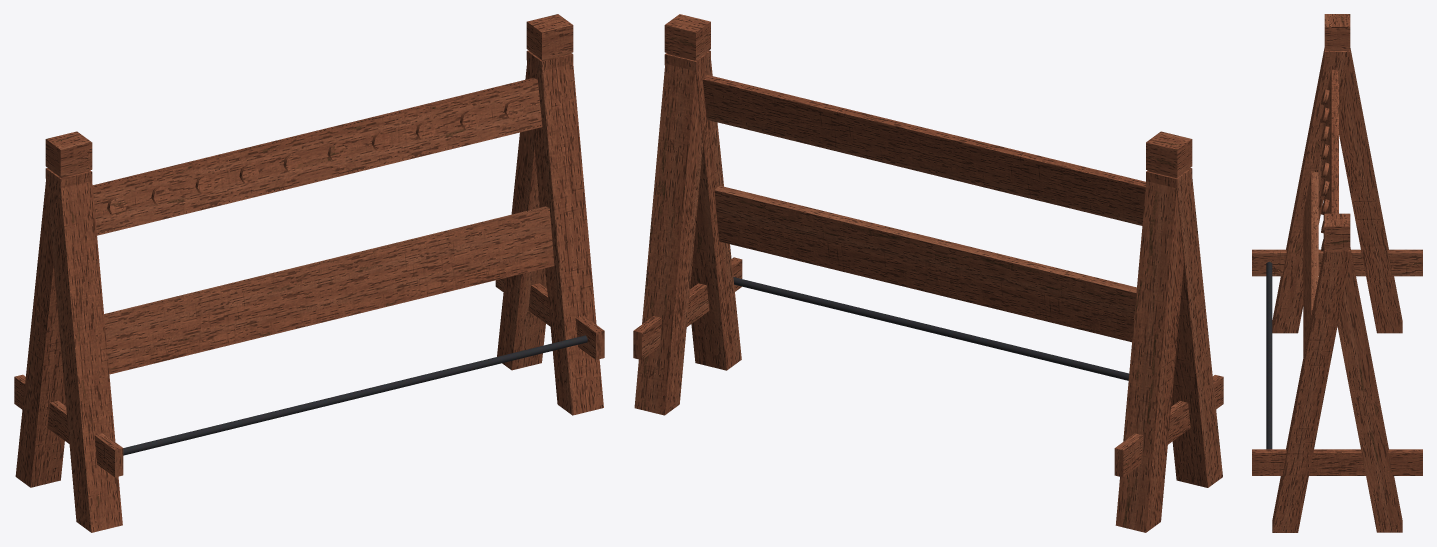
Rendered from SM__Rack_Weapon_a_001.fbx.
The picture shows the model from 3 angles, left to right: view 1: azimuth 30°, elevation 25°; view 2: azimuth 150°, elevation 25°; view 3: azimuth 270°, elevation 25°; orthographic projection. The views are drawn at different scales.
Parts seen in each view (by area): view 1: SM__Rack_Weapon_a_001; view 2: SM__Rack_Weapon_a_001; view 3: SM__Rack_Weapon_a_001.
Part boxes in pixels (box(x1,y1,x2,y2)): SM__Rack_Weapon_a_001: box(14, 14, 604, 532); SM__Rack_Weapon_a_001: box(633, 14, 1223, 532); SM__Rack_Weapon_a_001: box(1252, 14, 1422, 532).
Size of the model in its own units: 205 by 138 by 69.53.
